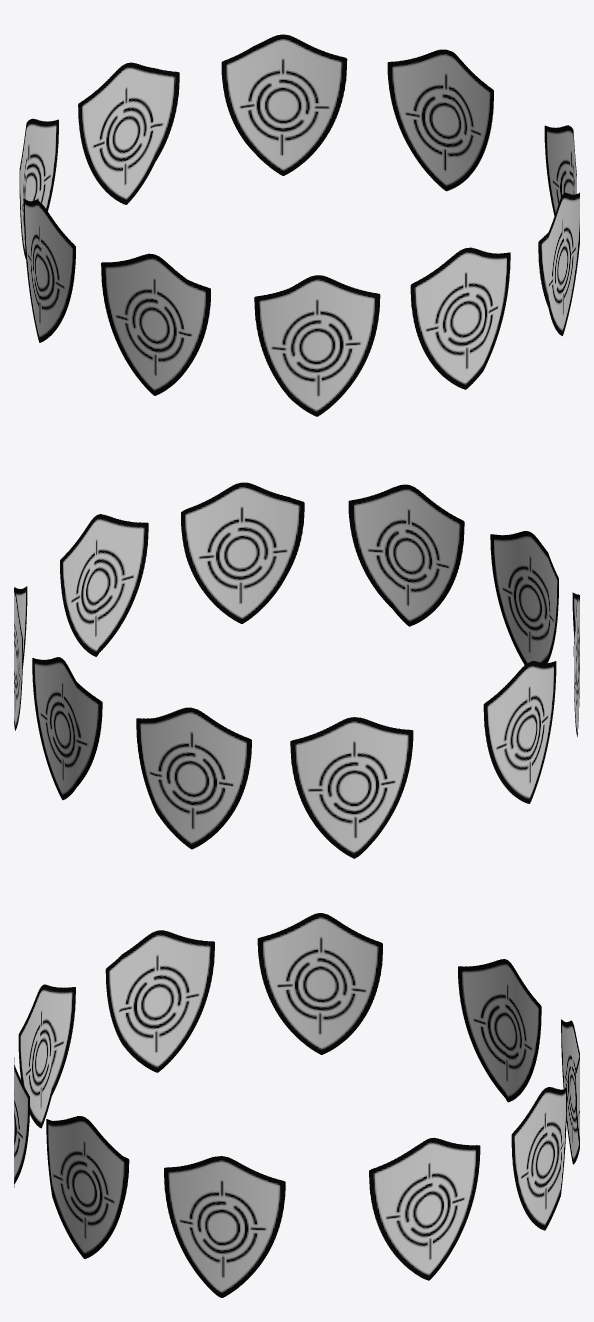
Rendered from SM_Shield_VFX.fbx.
The picture shows the model from 3 angles, top to bottom: view 1: azimuth 30°, elevation 25°; view 2: azimuth 150°, elevation 25°; view 3: azimuth 270°, elevation 25°; orthographic projection.
Parts seen in each view (by area): view 1: pCylinder1; view 2: pCylinder1; view 3: pCylinder1.
Part boxes in pixels (left/top/right/bottom): pCylinder1: left=19, top=34, right=579, bottom=416; pCylinder1: left=14, top=482, right=579, bottom=858; pCylinder1: left=14, top=913, right=579, bottom=1297.
Bounding box in the file's own units: 402 × 135 × 400.
